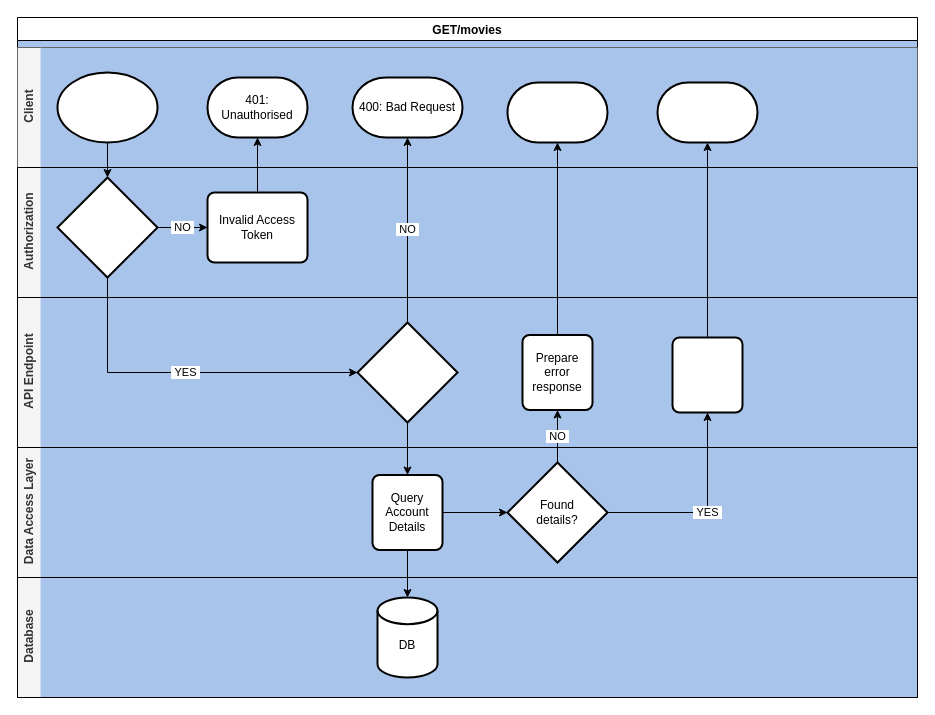
This 935x715 diagram has some shape labels left out. The centre of each missing label's shape, as x and y in pixels:
200: Response: (x=707, y=112)
404: Not Found: (x=557, y=112)
Authorized?: (x=107, y=227)
Prepare success response: (x=707, y=374)
Request: (x=107, y=107)
Validate request payload!: (x=407, y=372)
